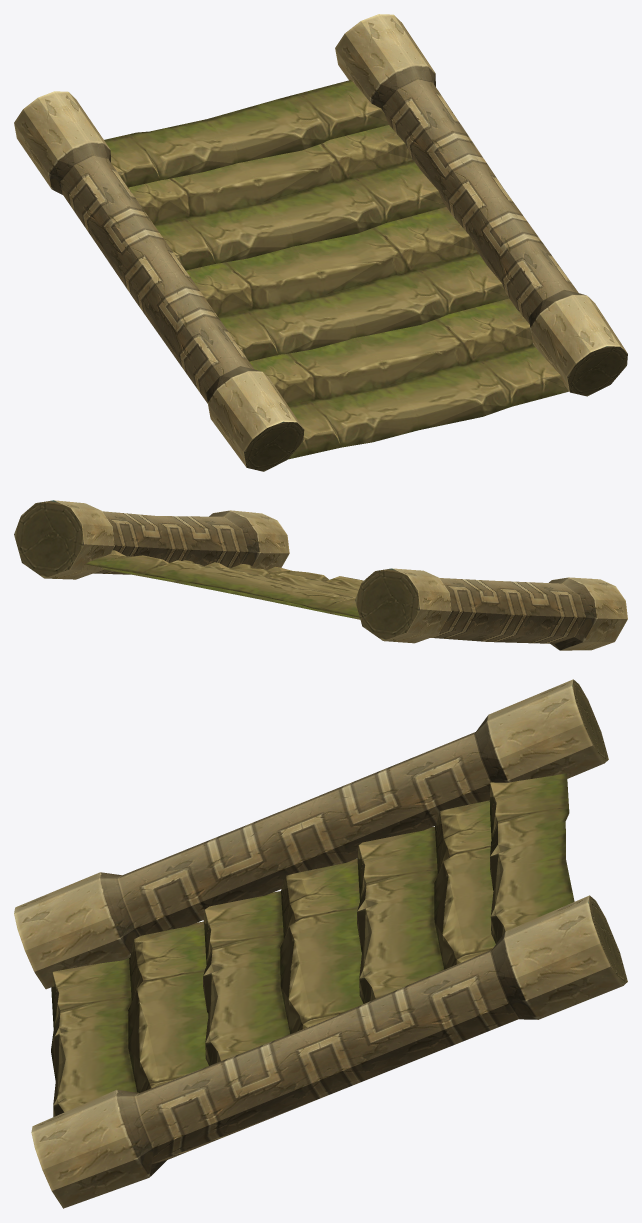
File: Cunluo_taijian01.FBX
3 renders of one model, top to bottom at view 1: azimuth 30°, elevation 25°; view 2: azimuth 150°, elevation 25°; view 3: azimuth 270°, elevation 25°, orthographic. The views are drawn at different scales.
Parts seen in each view (by area): view 1: Cunluo_taijian01; view 2: Cunluo_taijian01; view 3: Cunluo_taijian01.
Boxes of the visible parts, x1,y1,x2,y2 form: Cunluo_taijian01: (14,14,627,471); Cunluo_taijian01: (14,500,627,650); Cunluo_taijian01: (14,679,627,1208).
Bounding box in the file's own units: 440 × 253 × 454.
